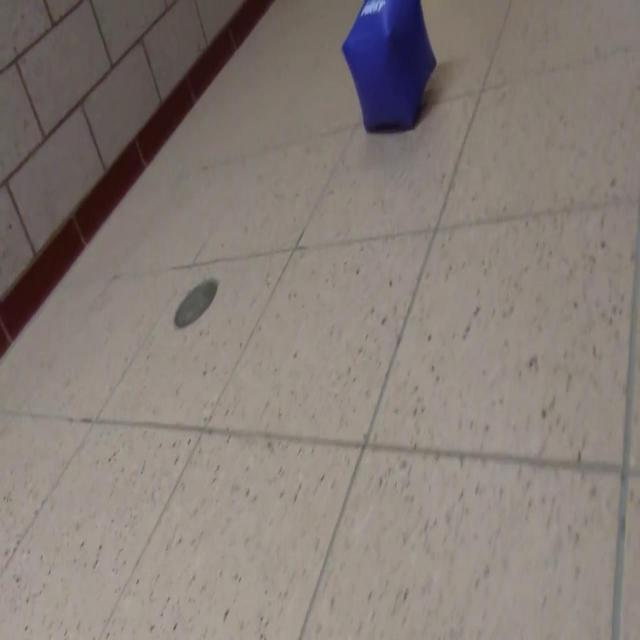frc_cube: (341, 0, 435, 136)
